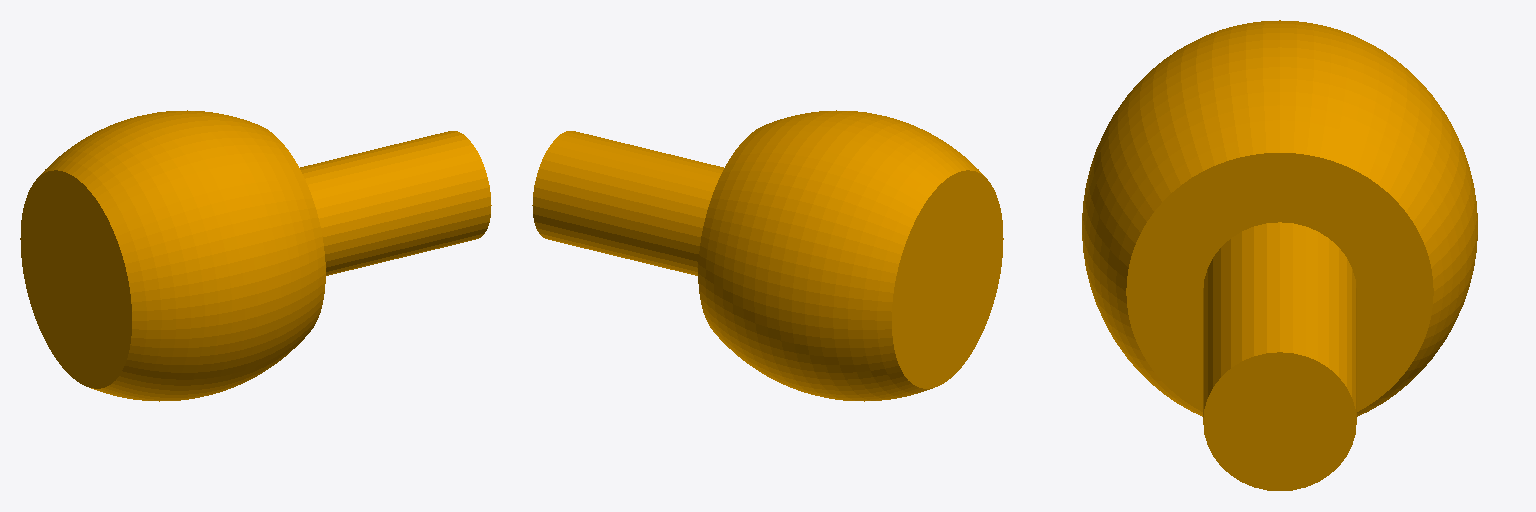
The robot description file, URDF, robot "box":
<robot name="box">

  <link name="box">

    <inertial>
      <origin xyz="0 0 0" />
      <mass value="0.001" />
      <inertia  ixx="0.01" ixy="0.0"  ixz="0.0"  iyy="0.01"  iyz="0.0"  izz="0.01" />
    </inertial>

    <visual>
      <origin xyz=" 0 0 0"/>
      <geometry>
        <mesh filename="package://info_entropy/urdfs/weird shape.STL" scale=".01 .01 .01" />
      </geometry>
    </visual>

    <collision>
      <origin xyz="0 0 0"/>
      <geometry>
        <mesh filename="package://info_entropy/urdfs/weird shape.STL" scale=".01 .01 .01" />
      </geometry>
    </collision>

    <gravity>0 0 -9.81</gravity>
  </link>
  <gazebo reference="box">
    <material>rainbow</material>
  </gazebo>
</robot>

--- What the picture shows (computed from the rendered views, not written in the file) ---
Views: 3 orthographic renders of the robot side by side, from view 1: azimuth 30°, elevation 25°; view 2: azimuth 150°, elevation 25°; view 3: azimuth 270°, elevation 25°.
Robot: box — 1 links, 0 joints (none); root link box; default pose: all joints at 0.
Visible links, largest first — view 1: box; view 2: box; view 3: box.
Link boxes in pixels (box(x1,y1,x2,y2)): box: box(20, 110, 491, 401); box: box(532, 110, 1003, 401); box: box(1082, 20, 1477, 490).
Bounding box of the posed robot: 0.508 × 0.3275 × 0.3275 m (x, y, z).
1 mesh visuals loaded from 1 distinct referenced files (1 binary STL).